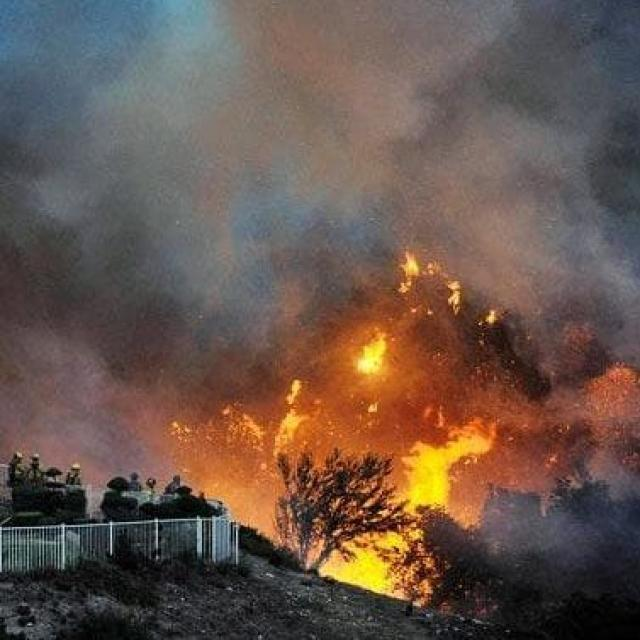Fire: (158, 198, 564, 590)
Smoke: (7, 0, 640, 483)
